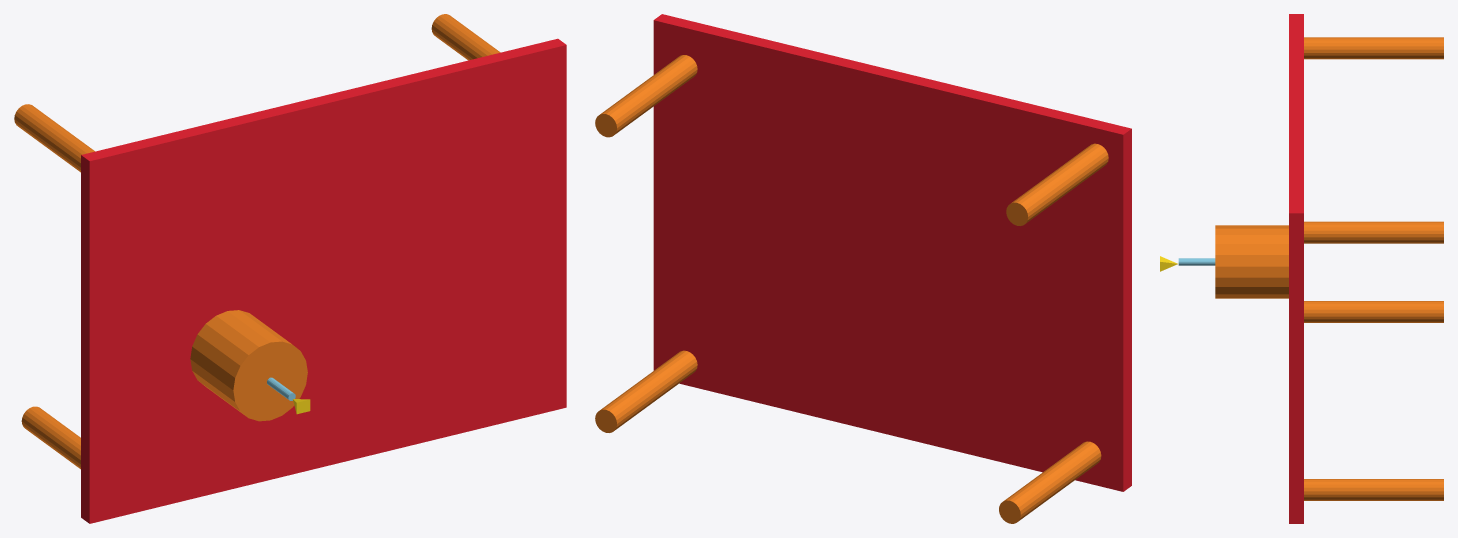
Rendered from tinker.obj.
3 renders of one model, left to right at view 1: azimuth 30°, elevation 25°; view 2: azimuth 150°, elevation 25°; view 3: azimuth 270°, elevation 25°, orthographic. The views are drawn at different scales.
Visible parts, largest first — view 1: group_0_15277357, group_0_16089887; view 2: group_0_15277357, group_0_16089887; view 3: group_0_16089887, group_0_15277357.
Part boxes in pixels (left/top/right/bottom): group_0_15277357: left=81, top=38, right=566, bottom=523; group_0_16089887: left=14, top=14, right=500, bottom=469; group_0_15277357: left=653, top=14, right=1131, bottom=491; group_0_16089887: left=595, top=55, right=1108, bottom=523; group_0_16089887: left=1215, top=37, right=1443, bottom=500; group_0_15277357: left=1289, top=14, right=1303, bottom=523.
Size of the model in its own units: 128 by 93 by 77.
